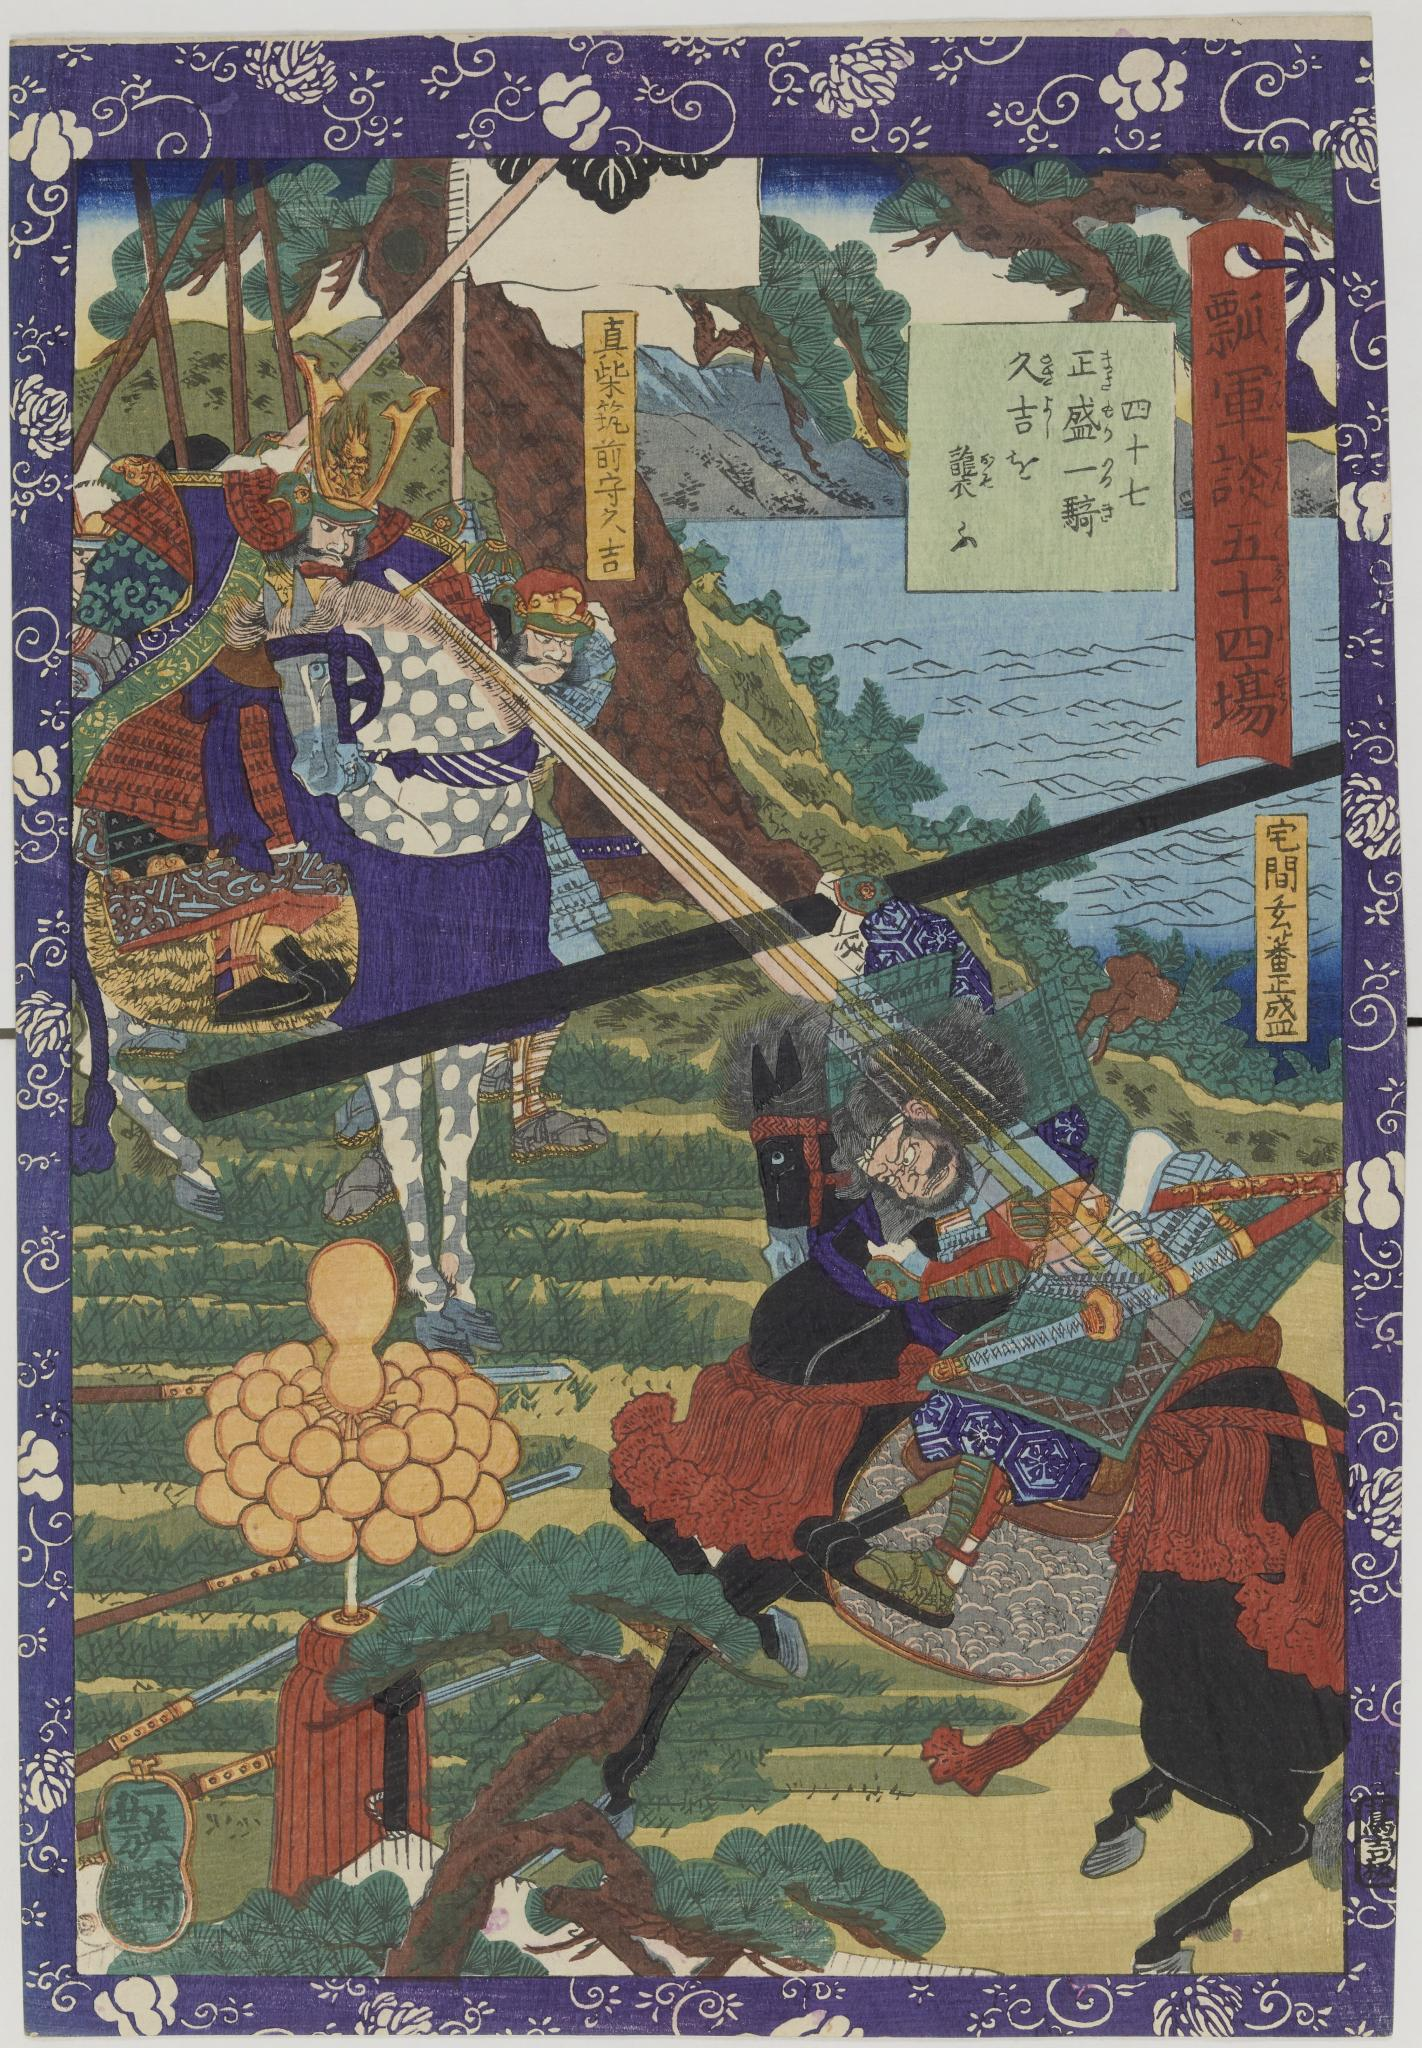MainZone-Character: (1206, 657, 1294, 744), (1198, 359, 1288, 437), (1195, 289, 1290, 359), (1206, 442, 1290, 509), (1209, 512, 1287, 563), (1209, 618, 1293, 660), (1212, 568, 1290, 613), (940, 447, 999, 498), (1063, 395, 1116, 451), (1058, 495, 1120, 540), (1069, 345, 1117, 392), (1008, 395, 1058, 439), (1005, 349, 1056, 389), (1059, 456, 1117, 492)
MainZone-Ruby: (1268, 291, 1285, 359), (1273, 655, 1291, 717), (979, 450, 997, 492), (1098, 347, 1116, 392), (1268, 451, 1284, 498), (1100, 398, 1114, 445), (1038, 352, 1056, 386), (1268, 372, 1282, 417), (1041, 397, 1055, 439), (1273, 570, 1288, 607), (1098, 458, 1116, 489), (1100, 500, 1116, 526), (1276, 621, 1287, 646), (1271, 518, 1282, 542)
